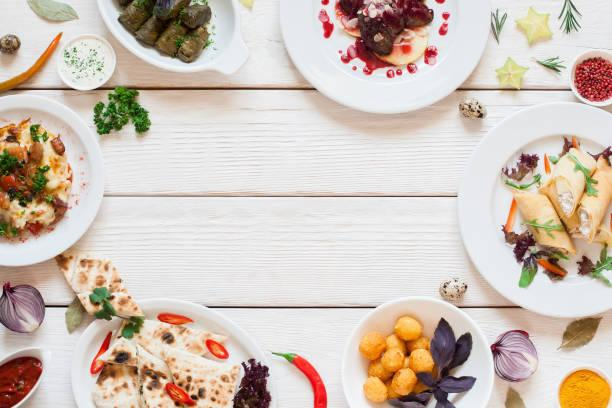Braised Crucian Carp: (455, 100, 612, 316), (280, 1, 489, 115), (67, 298, 266, 405), (1, 92, 106, 265), (341, 297, 496, 405)
